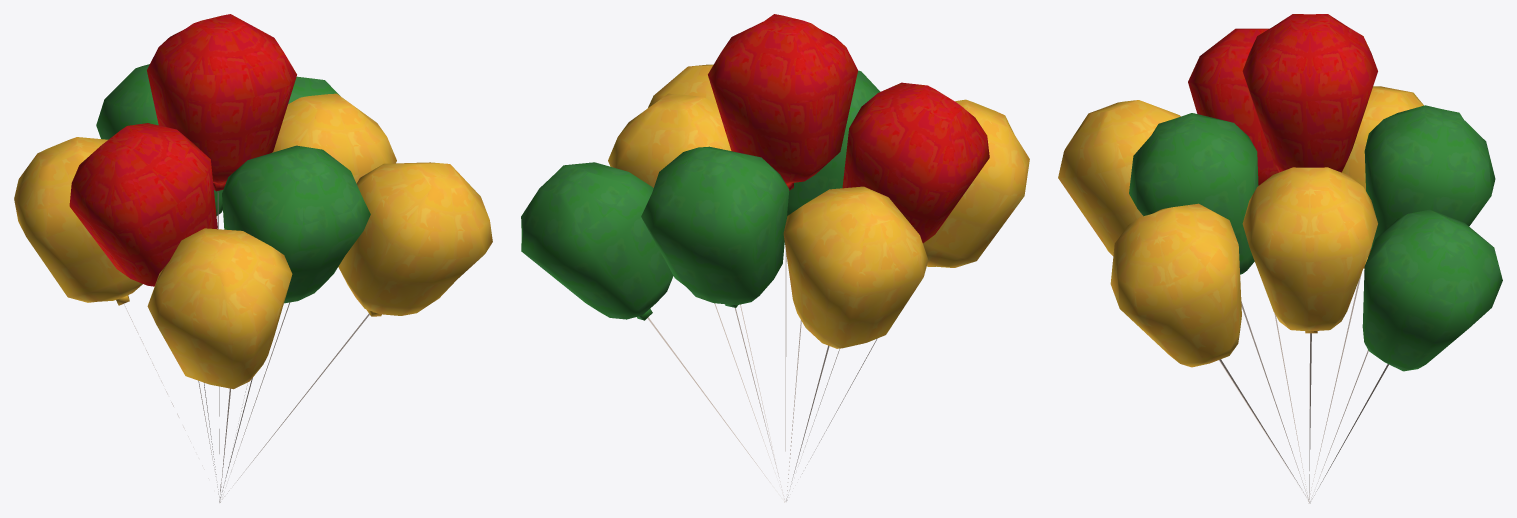
File: Balloon_cluster01.fbx
The picture shows the model from 3 angles, left to right: view 1: azimuth 30°, elevation 25°; view 2: azimuth 150°, elevation 25°; view 3: azimuth 270°, elevation 25°; orthographic projection.
Parts seen in each view (by area): view 1: Balloon_cluster01; view 2: Balloon_cluster01; view 3: Balloon_cluster01.
Boxes of the visible parts, x1,y1,x2,y2 form: Balloon_cluster01: [14, 14, 492, 502]; Balloon_cluster01: [521, 14, 1029, 502]; Balloon_cluster01: [1058, 14, 1502, 503].
Bounding box in the file's own units: 1.95 × 2.46 × 2.06.
4 materials, 3 textured.
